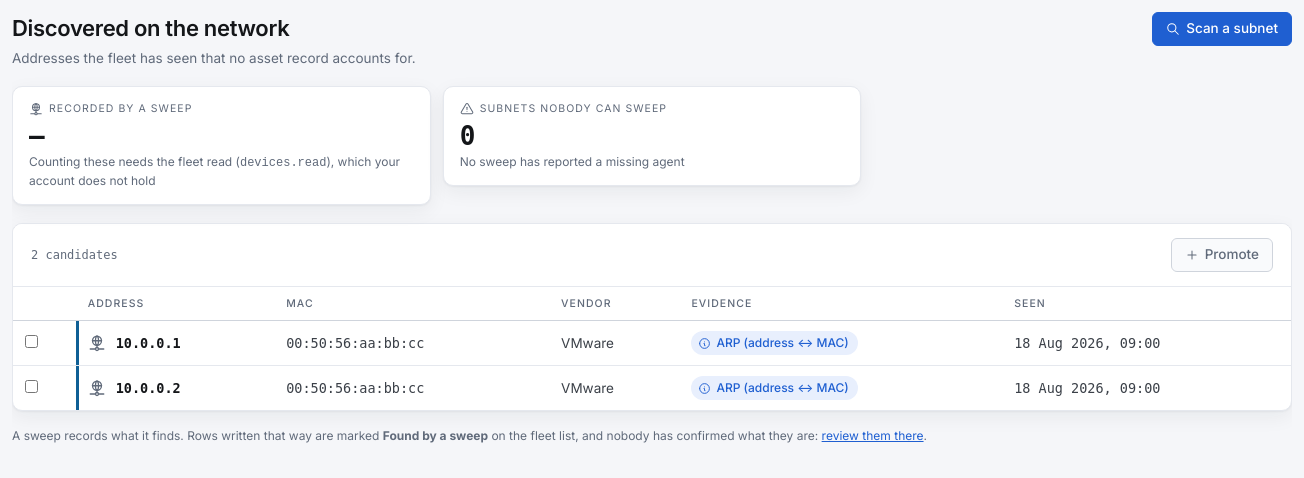
Test: CandidatesPage › reports every client's outcome together
The image size is (1304, 478).
Expected: the text "10.0.0.1" is shown, left=116, top=333, right=181, bottom=354
Click the checkbox named "10.0.0.1": point(32, 342) left=25, top=335, right=38, bottom=348
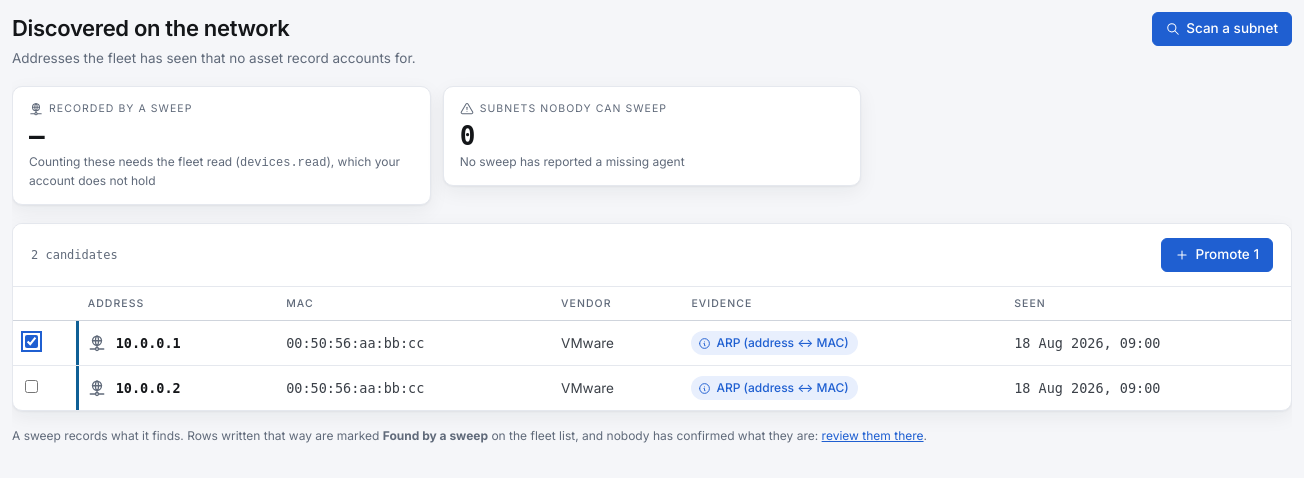
Click the checkbox named "10.0.0.2": point(32, 387) left=25, top=380, right=38, bottom=393
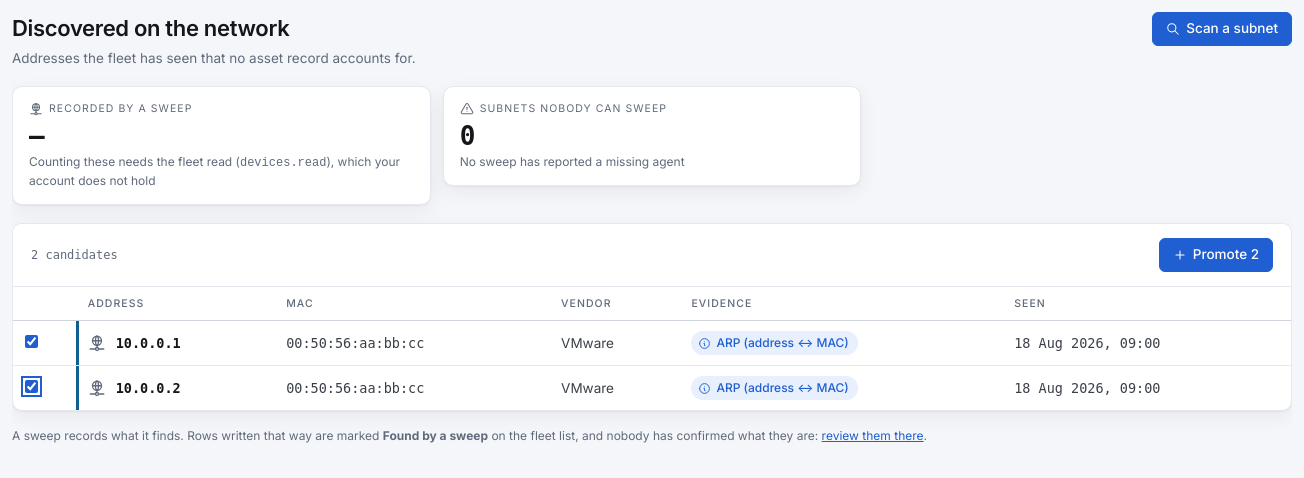
Click the button "Promote 2": point(1216, 255) left=1159, top=238, right=1273, bottom=272
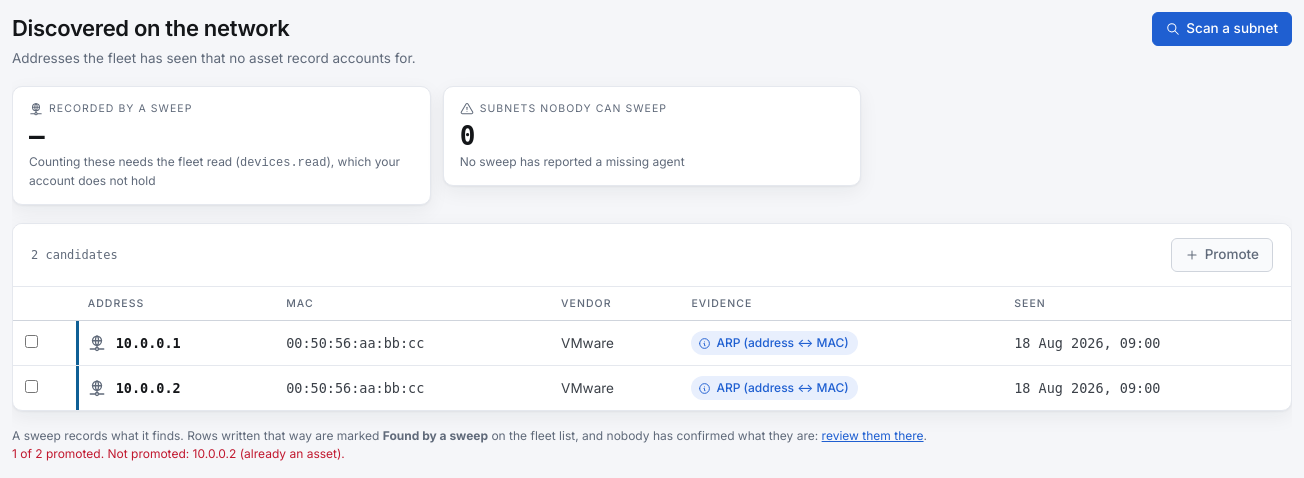
Expected: the message reads "1 of 2 promoted. Not promoted: 10.0.0.2 (already an asset).", left=12, top=446, right=345, bottom=461
